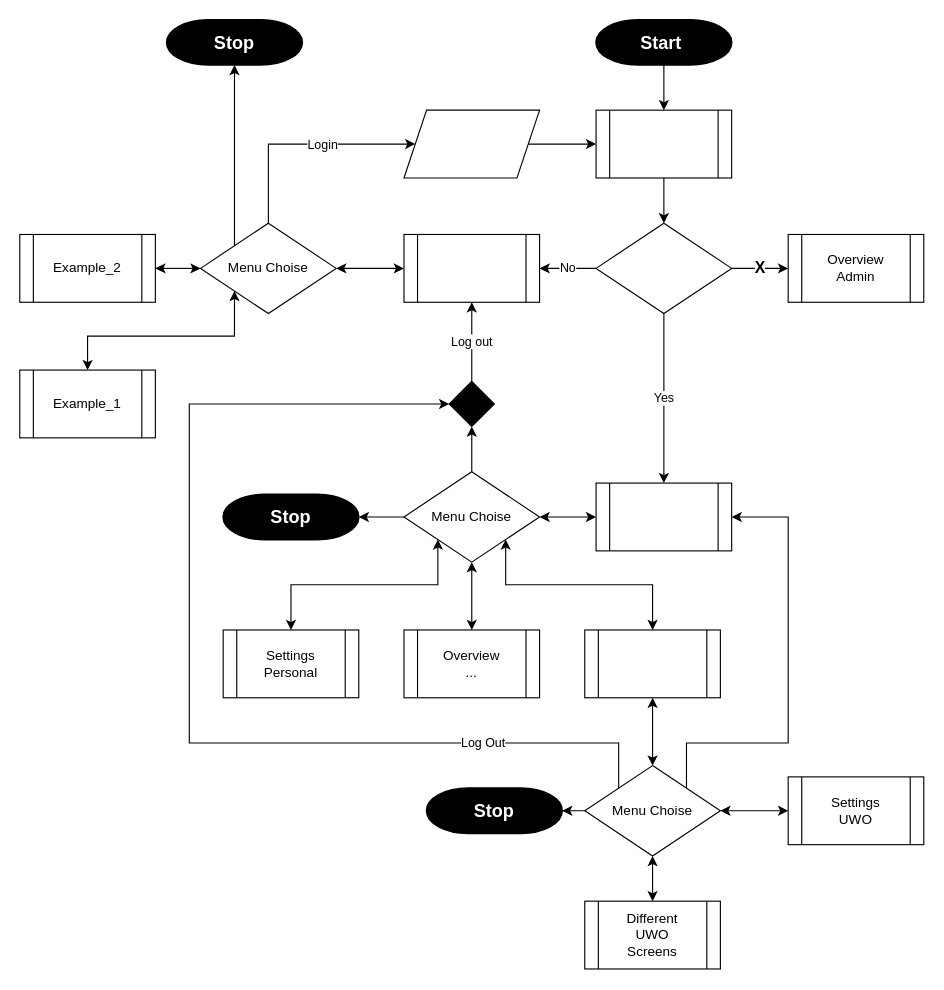
Some shapes in this 944 by 990 pixel diagram are drawn without their labels. The box of each missing label's shape, as (x1, y1, x2, y2) in pixels:
Check ok?: (595, 222, 732, 314)
Input Logindatas: (403, 109, 540, 178)
Overview Main: (403, 233, 540, 302)
Overview Personal: (595, 482, 732, 551)
Overview UWO: (584, 629, 720, 698)
Token / Datacheck: (595, 109, 732, 178)
